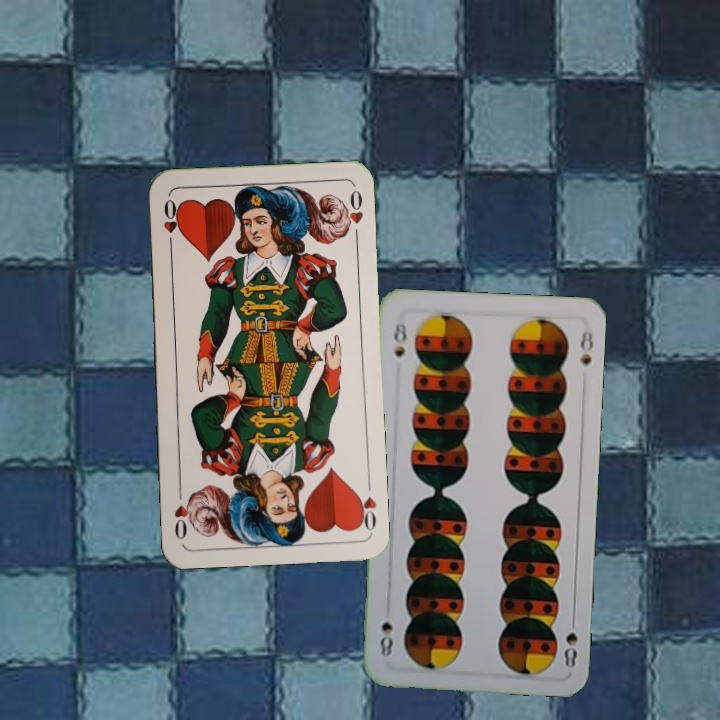HO: (159, 195, 182, 253), (352, 489, 379, 533)
S8: (560, 612, 580, 671), (390, 313, 410, 360)
